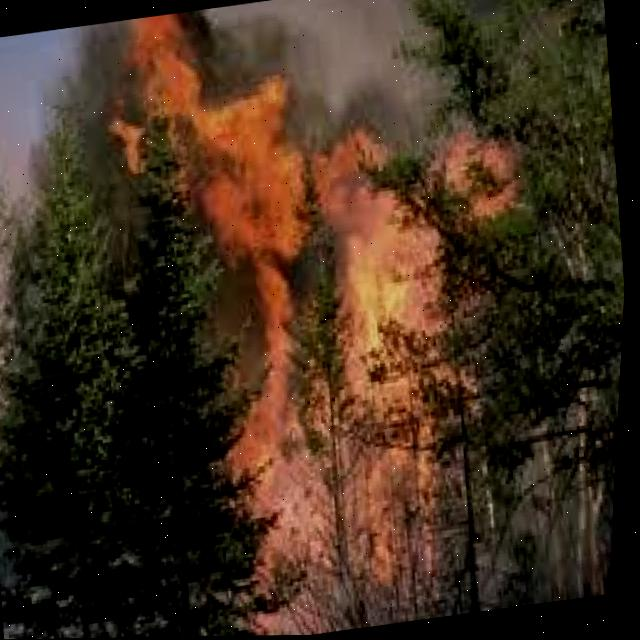smoke: (257, 402, 623, 637), (0, 20, 143, 427), (182, 0, 454, 148)
